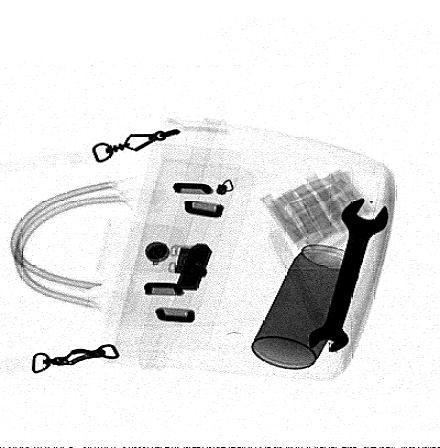Wrench: (309, 198, 388, 353)
